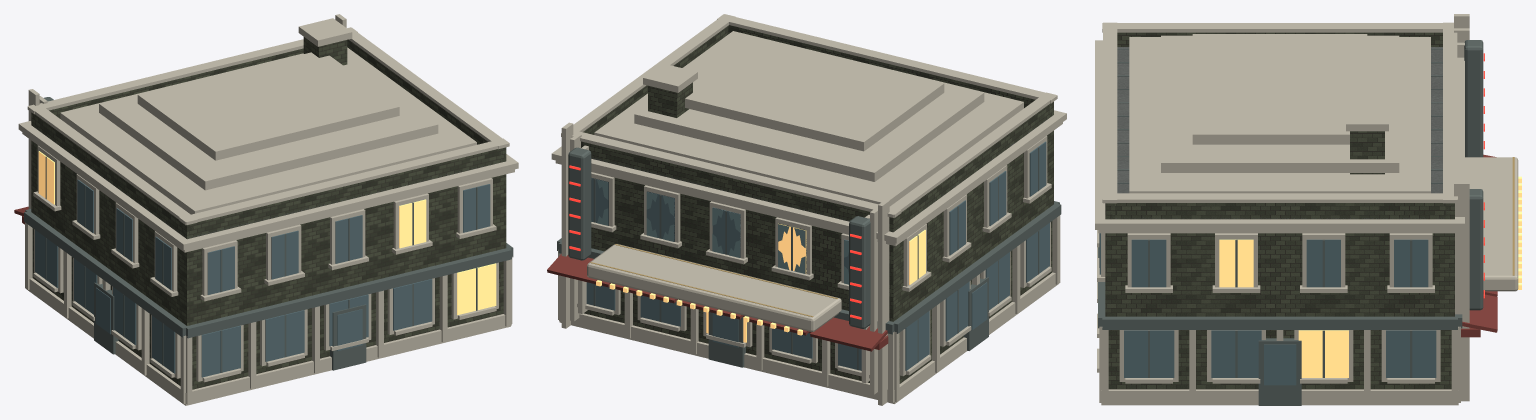
File: casino.glb
3 renders of one model, left to right at view 1: azimuth 30°, elevation 25°; view 2: azimuth 150°, elevation 25°; view 3: azimuth 270°, elevation 25°, orthographic. The views are drawn at different scales.
Parts seen in each view (by area): view 1: foundation, masonry, window pane, roof tar seam, window pane.004, roof; view 2: foundation, masonry, roof tar seam, window pane, canvas awning, window pane.015, window glass remnant, window pane.004, marquee brass edge, window pane.016, neon blade tube; view 3: foundation, masonry, window pane, roof tar seam, window pane.004, roof, canvas awning.
Boxes of the visible parts, x1=… form: foundation: x1=18, y1=14, x2=518, y2=405; masonry: x1=31, y1=37, x2=506, y2=389; window pane: x1=35, y1=179, x2=490, y2=377; roof tar seam: x1=24, y1=97, x2=513, y2=372; window pane.004: x1=38, y1=151, x2=496, y2=315; roof: x1=31, y1=124, x2=495, y2=238; foundation: x1=551, y1=14, x2=1066, y2=405; masonry: x1=581, y1=25, x2=1053, y2=383; roof tar seam: x1=557, y1=147, x2=1061, y2=370; window pane: x1=586, y1=141, x2=1049, y2=370; canvas awning: x1=547, y1=254, x2=888, y2=351; window pane.015: x1=591, y1=178, x2=848, y2=273; window glass remnant: x1=591, y1=178, x2=848, y2=284; window pane.004: x1=596, y1=230, x2=925, y2=342; marquee brass edge: x1=590, y1=244, x2=837, y2=317; window pane.016: x1=778, y1=223, x2=806, y2=273; neon blade tube: x1=569, y1=165, x2=861, y2=319; foundation: x1=1095, y1=14, x2=1518, y2=405; masonry: x1=1105, y1=32, x2=1454, y2=389; window pane: x1=1099, y1=233, x2=1436, y2=385; roof tar seam: x1=1098, y1=40, x2=1483, y2=405; window pane.004: x1=1219, y1=176, x2=1521, y2=377; roof: x1=1106, y1=47, x2=1454, y2=219; canvas awning: x1=1461, y1=154, x2=1497, y2=337.
Bounding box in the file's own units: 13.65 × 8.82 × 13.44.
Materials: 11 (2 with a texture image).
